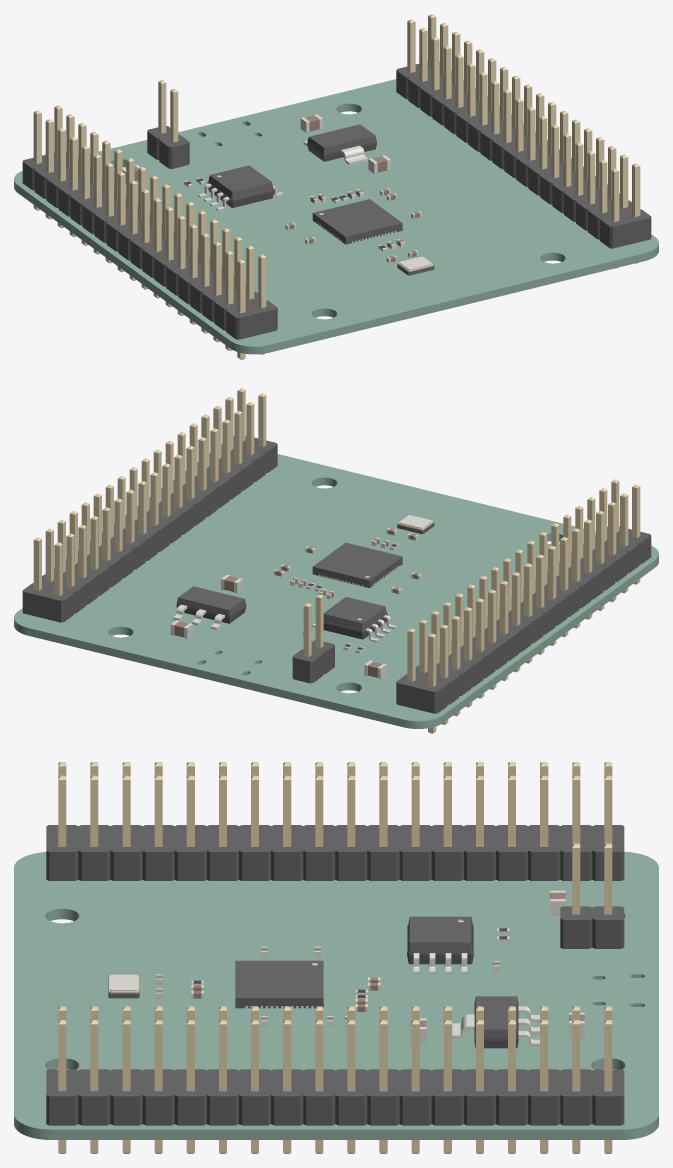
The model's file is RP2040_minimal_r2.glb.
3 renders of one model, top to bottom at view 1: azimuth 30°, elevation 25°; view 2: azimuth 150°, elevation 25°; view 3: azimuth 270°, elevation 25°, orthographic. The views are drawn at different scales.
Visible parts, largest first — view 1: Node9, Node2, Node4, Node1, Node3; view 2: Node9, Node2, Node4, Node1, Node3; view 3: Node9, Node4, Node2, Node1, Node3.
Boxes of the visible parts, x1=… form: Node9: x1=14, y1=79, x2=658, y2=354; Node2: x1=33, y1=14, x2=640, y2=359; Node4: x1=22, y1=61, x2=651, y2=339; Node1: x1=122, y1=114, x2=431, y2=270; Node3: x1=125, y1=115, x2=419, y2=262; Node9: x1=14, y1=454, x2=658, y2=728; Node2: x1=33, y1=388, x2=640, y2=733; Node4: x1=22, y1=435, x2=651, y2=713; Node1: x1=170, y1=515, x2=431, y2=678; Node3: x1=174, y1=528, x2=418, y2=677; Node9: x1=14, y1=852, x2=658, y2=1139; Node4: x1=46, y1=825, x2=624, y2=1125; Node2: x1=58, y1=762, x2=612, y2=1153; Node1: x1=110, y1=890, x2=584, y2=1046; Node3: x1=156, y1=893, x2=584, y2=1026.
Size of the model in its own units: 52 by 11.54 by 51.
